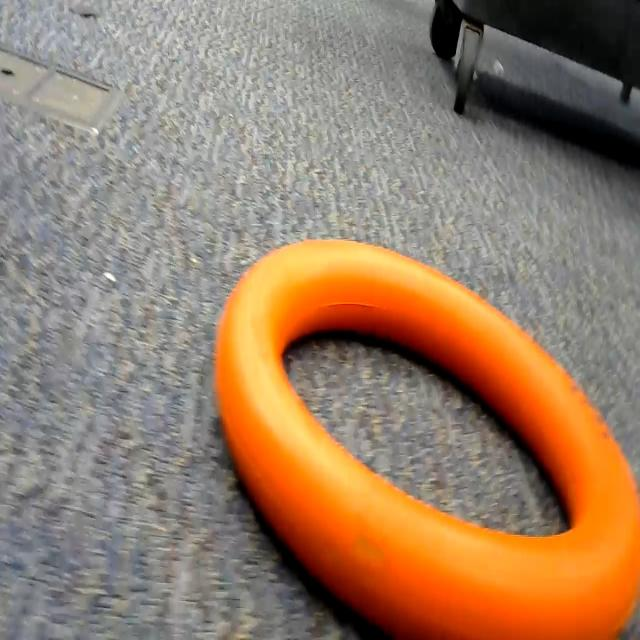note: (208, 225, 640, 640)
